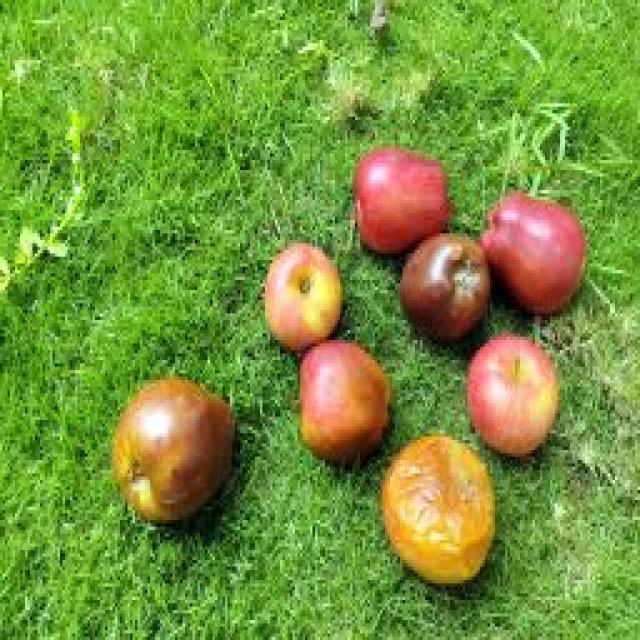Organik: (105, 369, 257, 528), (378, 437, 506, 598), (480, 174, 590, 314), (298, 338, 403, 474), (397, 224, 503, 356), (344, 143, 464, 252), (463, 327, 559, 463), (254, 236, 349, 352)
